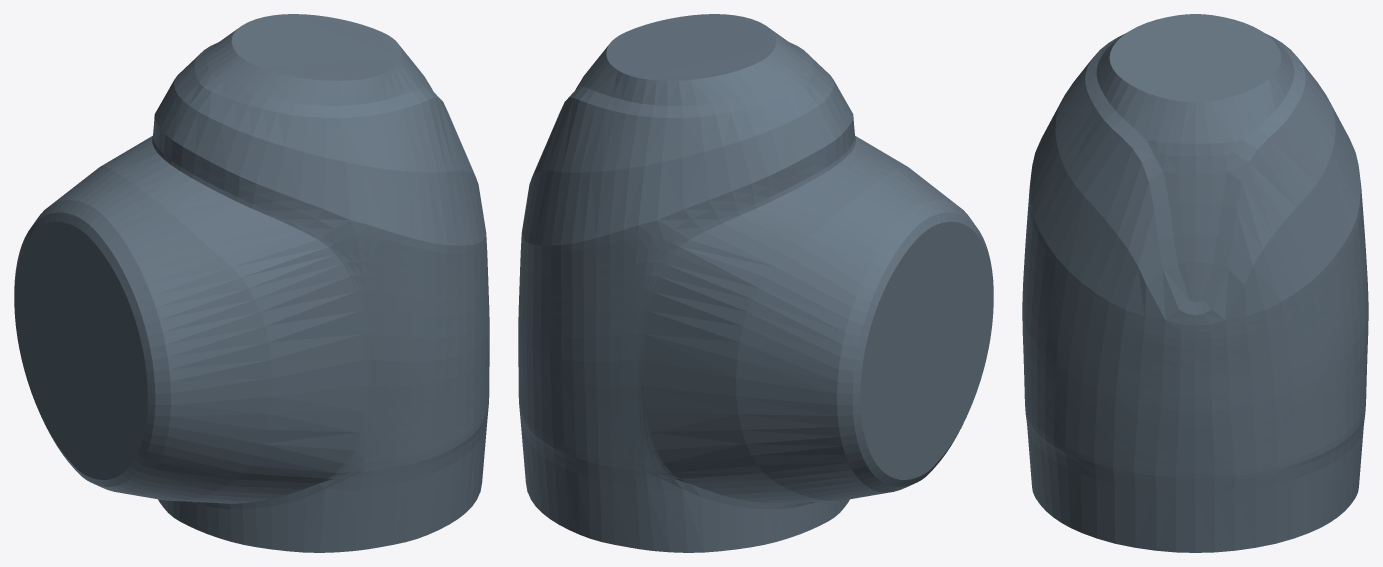
3 views of the same model, side by side, from view 1: azimuth 30°, elevation 25°; view 2: azimuth 150°, elevation 25°; view 3: azimuth 270°, elevation 25° (orthographic).
Parts seen in each view (by area): view 1: MF1509_2_2; view 2: MF1509_2_2; view 3: MF1509_2_2.
Boxes of the visible parts, <box> form: MF1509_2_2: <box>14,14,489,552</box>; MF1509_2_2: <box>518,14,993,552</box>; MF1509_2_2: <box>1022,14,1368,552</box>.
Size of the model in its own units: 176 by 139 by 193.
